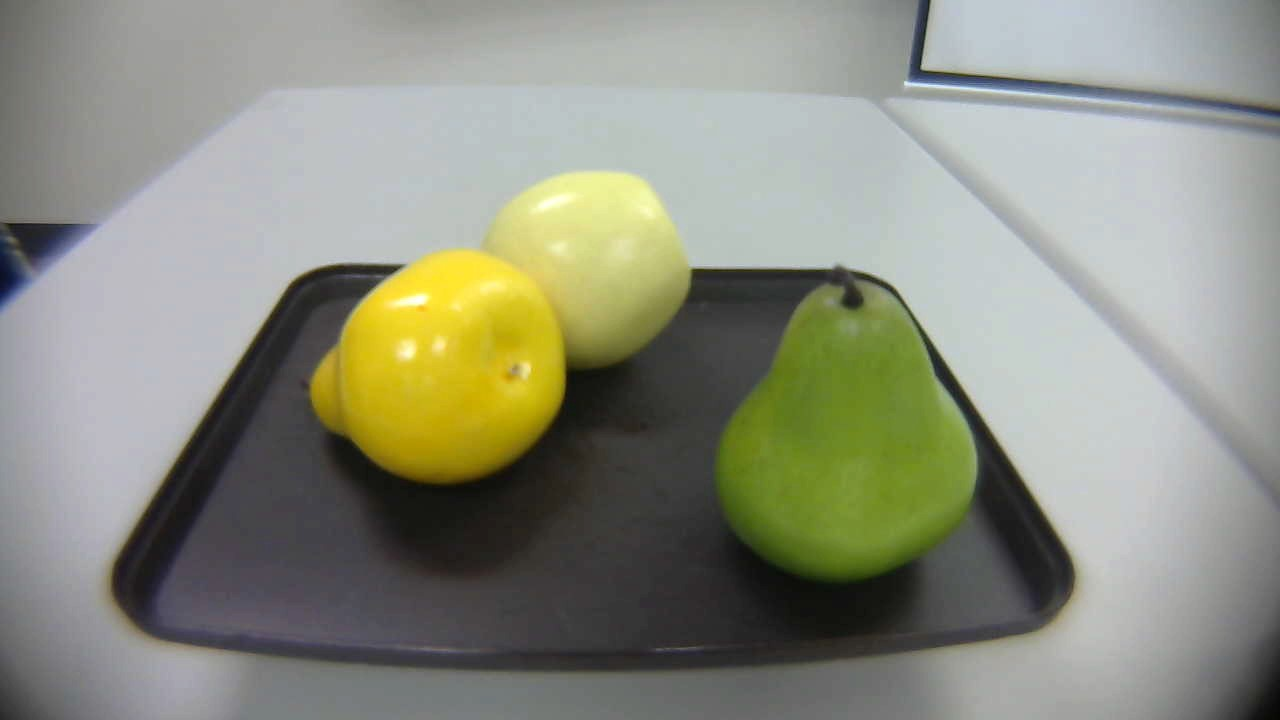green pear: (696, 261, 988, 588)
western pear: (486, 171, 701, 380)
yellow pear: (294, 250, 570, 482)
